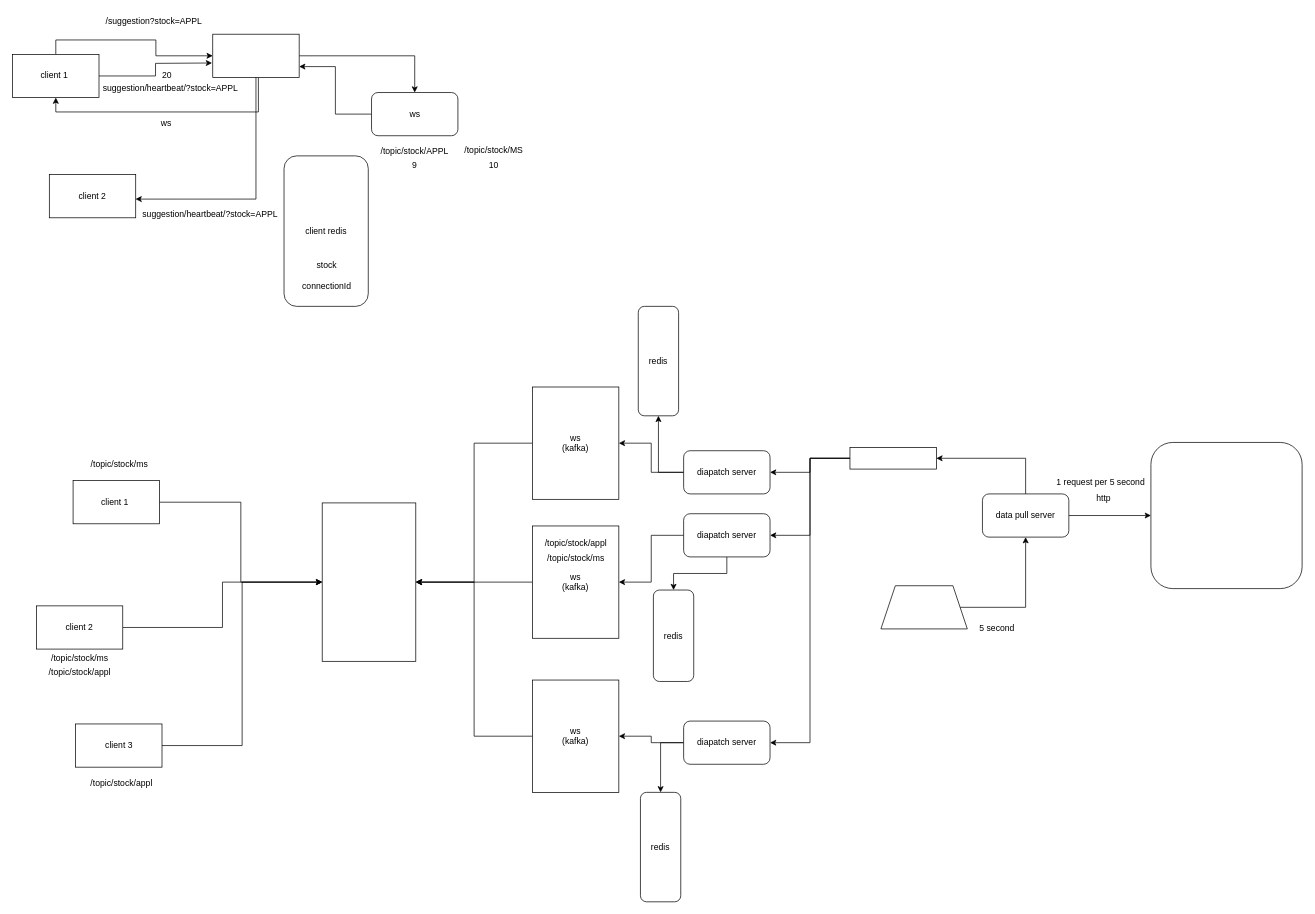
The diagram is 1315 pixels wide and 914 high, and some of its shapes have lost their labels. The shapes that lost their labels are listed below. From the top down, each one's centre as x and y in pixels, then its label:
point (255, 55): api-gatway
point (892, 458): rabbitmq
point (1226, 515): alpaca
point (368, 581): discovery (mapping)
point (923, 607): scheduler
